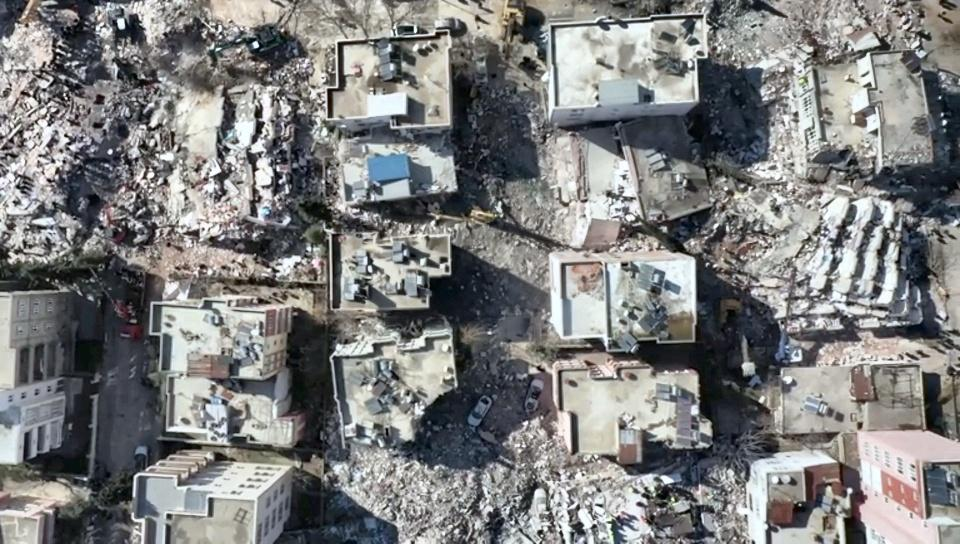kapali: (686, 0, 799, 397), (101, 0, 194, 369), (449, 28, 555, 324), (458, 357, 565, 543)
